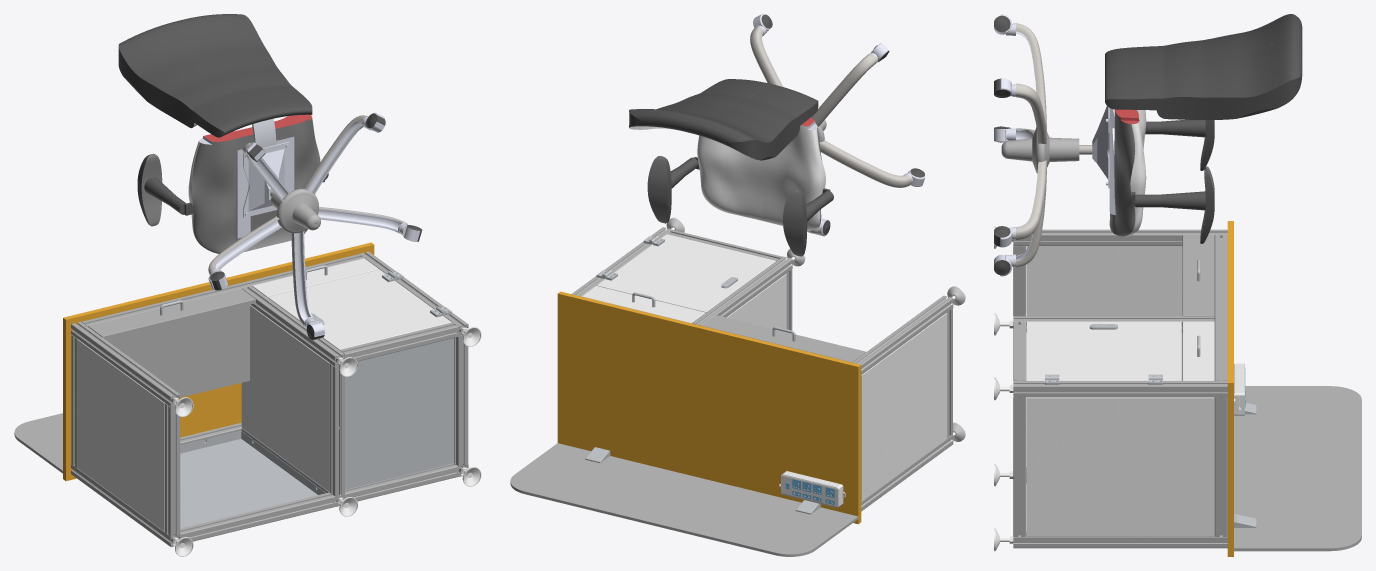
Rendered from 办公桌-sus02-00工作台装配.glb.
3 views of the same model, side by side, from view 1: azimuth 30°, elevation 25°; view 2: azimuth 150°, elevation 25°; view 3: azimuth 270°, elevation 25° (orthographic). The views are drawn at different scales.
Parts seen in each view (by area): view 1: 办公椅- SANDALYE-1, 办公桌-sus02-11底封板-2, 办公桌-sus02-09侧封板-1, 办公桌-sus02-16抽屉-1, 办公桌-sus02-09侧封板-3, 办公桌-sus02-08背封板-2, 办公桌-sus02-12右开门-2, 办公桌-sus02-07工作台板-1, 办公桌-sus02-04工台横梁 - -5, 办公桌-sus02-01工台立柱-5, 办公桌-sus02-03工台后侧横梁-3, 办公桌-sus02-03工台后侧横梁-6 (+9 smaller); view 2: 办公桌-sus02-07工作台板-1, 办公椅- SANDALYE-1, 办公桌-sus02-14挡板-1, 办公桌-sus02-09侧封板-1, 办公桌-sus02-12右开门-2, 办公桌-sus02-16抽屉-1, 办公桌-sus02-01工台立柱-5, 办公桌-sus02-09侧封板-3, 办公桌-sus02-05工台中立柱-1, 办公桌-sus02-17抽屉A-1, 办公桌-sus公牛GN-403插线板-1, 办公桌-sus02-01工台立柱-4 (+3 smaller); view 3: 办公椅- SANDALYE-1, 办公桌-sus02-09侧封板-2, 办公桌-sus02-14挡板-1, 办公桌-sus02-09侧封板-1, 办公桌-sus02-12右开门-2, 办公桌-sus02-01工台立柱-6, 办公桌-sus02-01工台立柱-3, 办公桌-sus02-01工台立柱-5, 办公桌-sus02-16抽屉-1, 办公桌-sus02-07工作台板-1, 办公桌-sus02-04工台横梁 - -2, 办公桌-sus02-03工台后侧横梁-4 (+6 smaller).
Part boxes in pixels (box(x1,y1,x2,y2)): 办公椅- SANDALYE-1: box(118, 14, 422, 340); 办公桌-sus02-11底封板-2: box(338, 328, 462, 497); 办公桌-sus02-09侧封板-1: box(77, 339, 164, 531); 办公桌-sus02-16抽屉-1: box(87, 288, 255, 397); 办公桌-sus02-09侧封板-3: box(241, 305, 329, 491); 办公桌-sus02-08背封板-2: box(180, 431, 326, 528); 办公桌-sus02-12右开门-2: box(267, 269, 451, 349); 办公桌-sus02-07工作台板-1: box(63, 242, 374, 480); 办公桌-sus02-04工台横梁 - -5: box(178, 463, 458, 541); 办公桌-sus02-01工台立柱-5: box(71, 321, 180, 407); 办公桌-sus02-03工台后侧横梁-3: box(165, 403, 180, 536); 办公桌-sus02-03工台后侧横梁-6: box(329, 363, 344, 496); 办公桌-sus02-07工作台板-1: box(557, 291, 861, 524); 办公椅- SANDALYE-1: box(629, 14, 925, 256); 办公桌-sus02-14挡板-1: box(510, 443, 858, 556); 办公桌-sus02-09侧封板-1: box(861, 313, 947, 500); 办公桌-sus02-12右开门-2: box(597, 234, 776, 312); 办公桌-sus02-16抽屉-1: box(702, 315, 865, 362); 办公桌-sus02-01工台立柱-5: box(852, 295, 953, 374); 办公桌-sus02-09侧封板-3: box(726, 273, 786, 329); 办公桌-sus02-05工台中立柱-1: box(692, 256, 792, 325); 办公桌-sus02-17抽屉A-1: box(582, 286, 705, 323); 办公桌-sus公牛GN-403插线板-1: box(779, 471, 845, 507); 办公桌-sus02-01工台立柱-4: box(861, 434, 953, 511); 办公椅- SANDALYE-1: box(994, 14, 1302, 276); 办公桌-sus02-09侧封板-2: box(1026, 397, 1214, 536); 办公桌-sus02-14挡板-1: box(1234, 386, 1361, 551); 办公桌-sus02-09侧封板-1: box(1026, 246, 1182, 316); 办公桌-sus02-12右开门-2: box(1026, 321, 1181, 380); 办公桌-sus02-01工台立柱-6: box(1013, 381, 1227, 397); 办公桌-sus02-01工台立柱-3: box(1013, 532, 1227, 548); 办公桌-sus02-01工台立柱-5: box(1013, 229, 1227, 245); 办公桌-sus02-16抽屉-1: box(1182, 235, 1214, 316); 办公桌-sus02-07工作台板-1: box(1227, 221, 1233, 556); 办公桌-sus02-04工台横梁 - -2: box(1214, 234, 1227, 380); 办公桌-sus02-03工台后侧横梁-4: box(1214, 397, 1227, 536).
Size of the model in its own units: 1.2 by 1.5 by 1.15.
26 materials, 9 textured.
